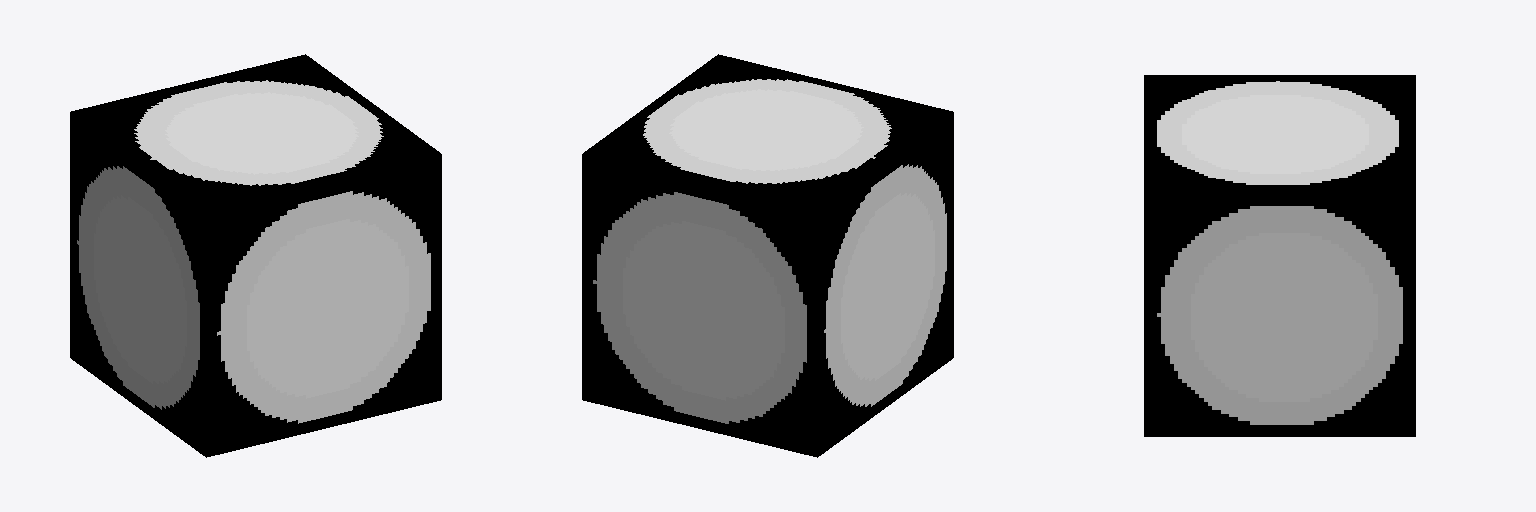
The picture shows the model from 3 angles: view 1: azimuth 30°, elevation 25°; view 2: azimuth 150°, elevation 25°; view 3: azimuth 270°, elevation 25°; orthographic projection.
Parts seen in each view (by area): view 1: plate; view 2: plate; view 3: plate.
Part boxes in pixels (bbox=[...]): plate: bbox=[70, 54, 441, 457]; plate: bbox=[582, 54, 953, 457]; plate: bbox=[1144, 75, 1415, 436].
Size of the model in its own units: 1 by 1 by 1.
Materials: 1 (1 with a texture image).